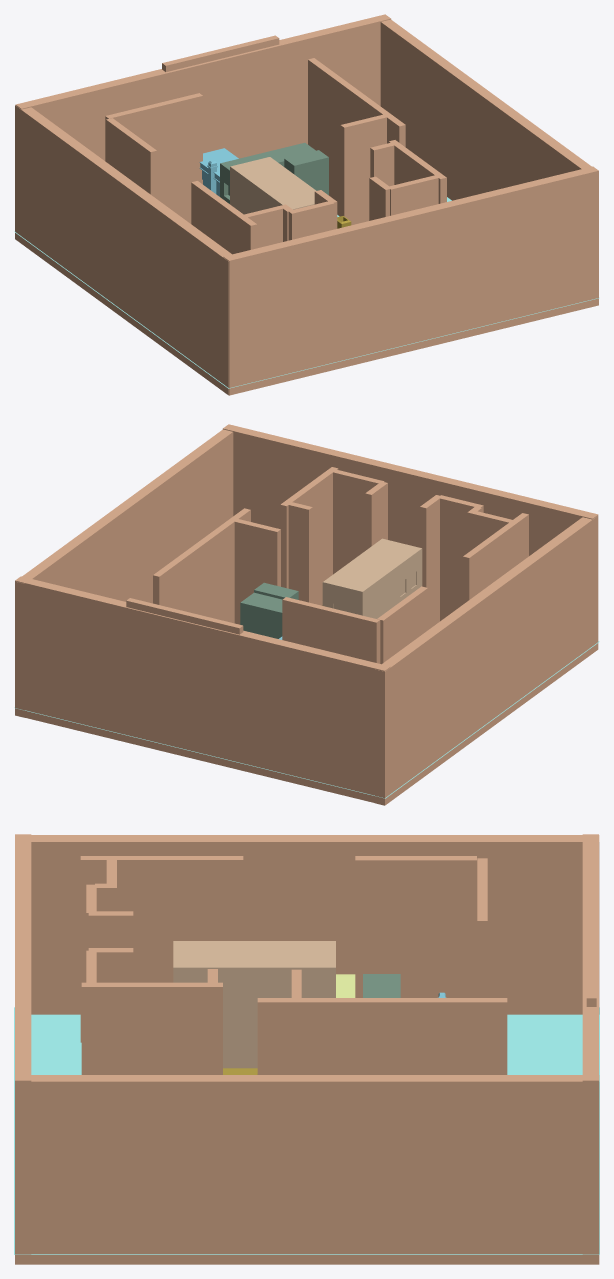
The model's file is MapModel.fbx.
3 renders of one model, top to bottom at view 1: azimuth 30°, elevation 25°; view 2: azimuth 150°, elevation 25°; view 3: azimuth 270°, elevation 25°, orthographic. The views are drawn at different scales.
Visible parts, largest first — view 1: 立方体.023, 立方体.024, 立方体.007, 立方体.006, 立方体.019, 立方体, 立方体.001, 立方体.003, 立方体.002, 立方体.010, 立方体.009, 立方体.004 (+6 smaller); view 2: 立方体.023, 立方体.024, 立方体.006, 立方体, 立方体.007, 立方体.004, 立方体.019, 立方体.001, 立方体.010, 立方体.009, 立方体.003, 立方体.018 (+6 smaller); view 3: 立方体.024, 立方体.006, 立方体.003, 立方体.023, 立方体.001, 立方体.004, 立方体, 平面, 立方体.011, 立方体.007, 立方体.012, 立方体.005 (+1 smaller).
Part boxes in pixels (x1,y1,x2,y2): 立方体.023: (15,14,598,395); 立方体.024: (15,19,591,395); 立方体.007: (105,93,202,223); 立方体.006: (308,58,405,216); 立方体.019: (340,114,386,225); 立方体: (230,157,316,214); 立方体.001: (191,181,257,254); 立方体.003: (106,118,156,198); 立方体.002: (220,142,328,203); 立方体.010: (388,175,438,215); 立方体.009: (288,201,334,240); 立方体.004: (388,140,446,203); 立方体.023: (15,424,598,802); 立方体.024: (15,429,598,805); 立方体.006: (153,508,250,623); 立方体: (322,538,422,618); 立方体.007: (282,597,380,663); 立方体.004: (280,467,338,605); 立方体.019: (234,519,280,624); 立方体.001: (463,513,528,604); 立方体.010: (333,470,384,574); 立方体.009: (437,495,483,621); 立方体.003: (377,586,427,664); 立方体.018: (288,502,312,603); 立方体.024: (31,835,599,1264); 立方体.006: (257,998,507,1074); 立方体.003: (355,856,476,997); 立方体.023: (15,834,598,1264); 立方体.001: (80,856,243,1042); 立方体.004: (81,982,222,1074); 立方体: (173,941,335,1068); 平面: (14,1007,599,1254); 立方体.011: (88,911,133,947); 立方体.007: (477,858,487,997); 立方体.012: (88,948,133,982); 立方体.005: (586,922,596,1006).
Bounding box in the file's own units: 577 × 244 × 577.
